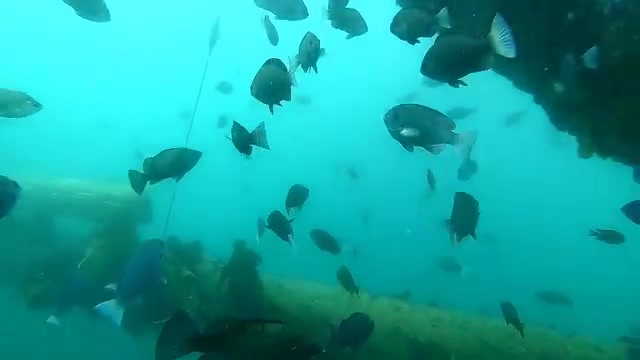gure: (419, 12, 520, 90), (375, 99, 492, 162)
smallfish: (92, 226, 181, 320), (121, 142, 207, 193), (246, 54, 307, 113), (246, 207, 304, 268), (379, 4, 455, 50), (301, 222, 359, 271), (325, 307, 385, 354), (333, 259, 382, 315), (323, 1, 370, 43), (495, 299, 542, 339), (569, 225, 640, 251), (271, 174, 317, 214), (446, 189, 488, 230)
